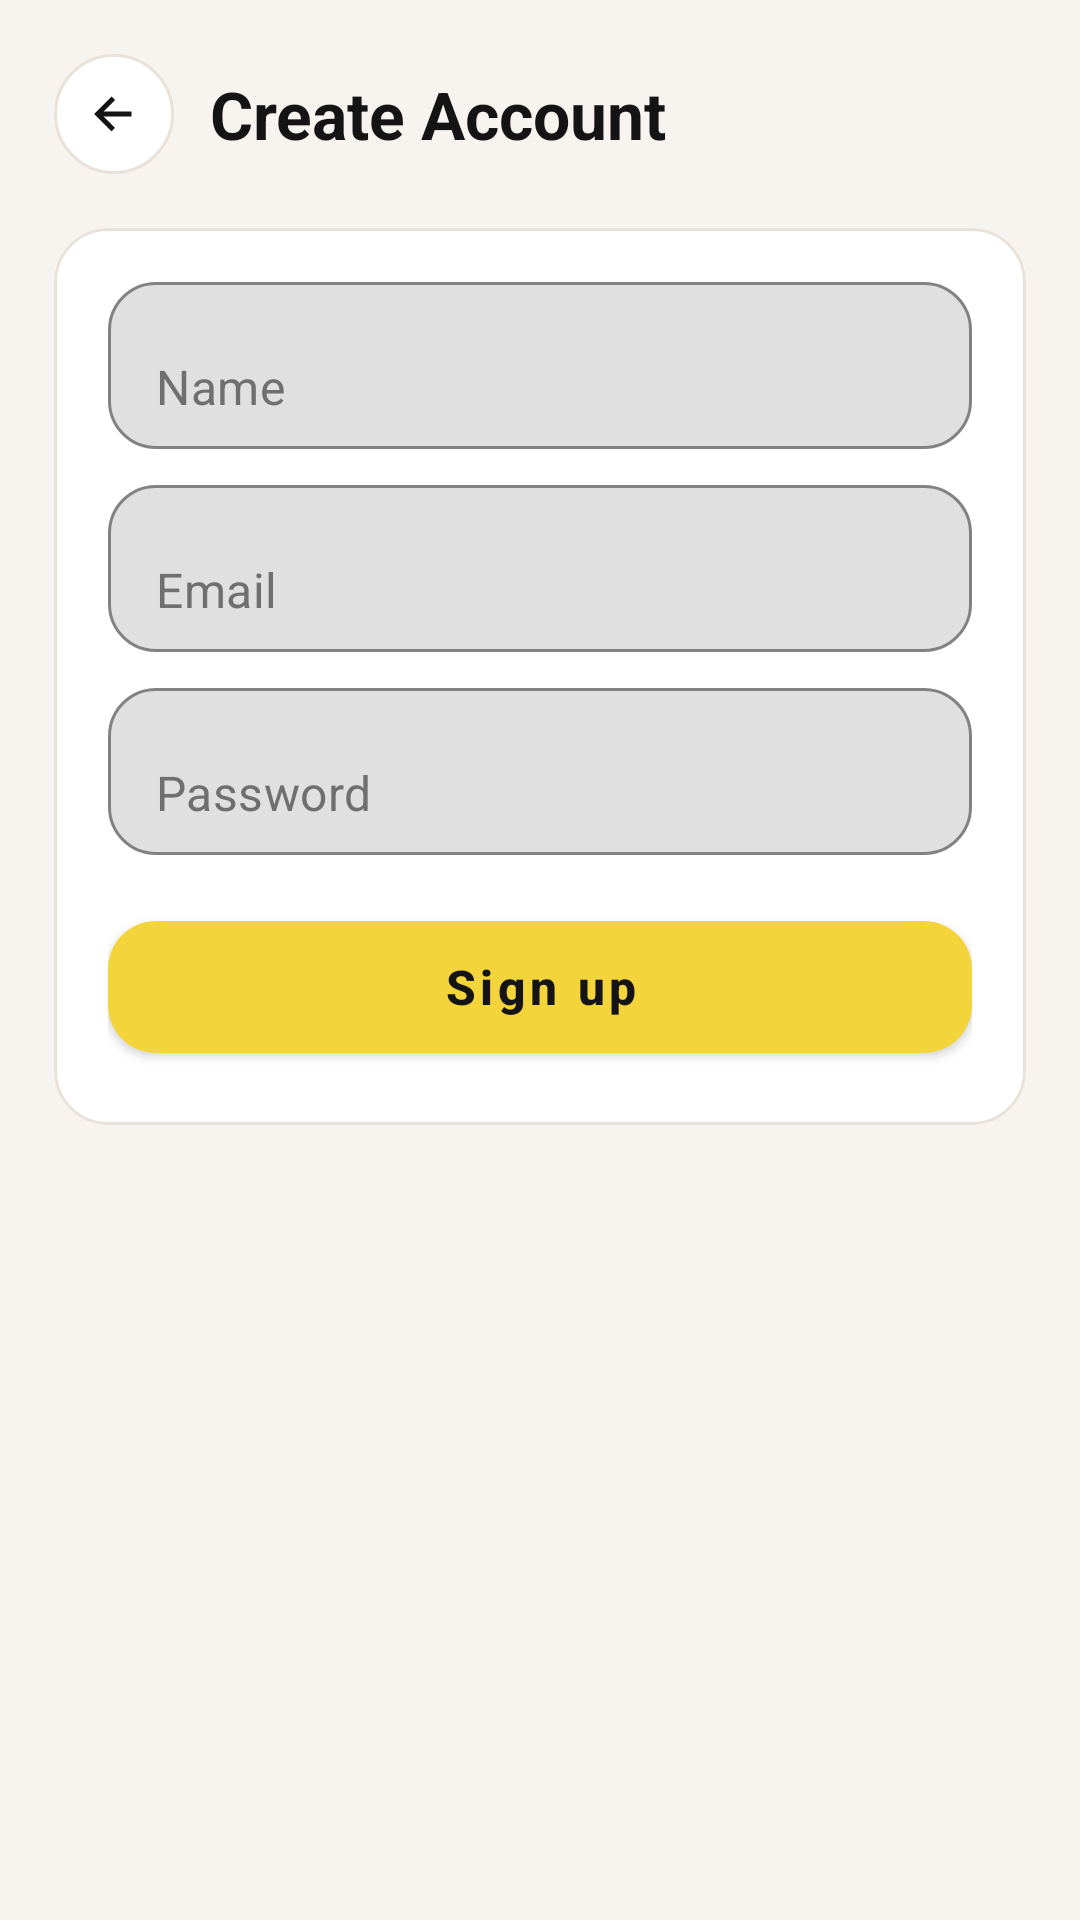

Screen size 1080 x 1920. Icon name, then its center in pixels as (x=x, y=y):
back: (x=114, y=114)
